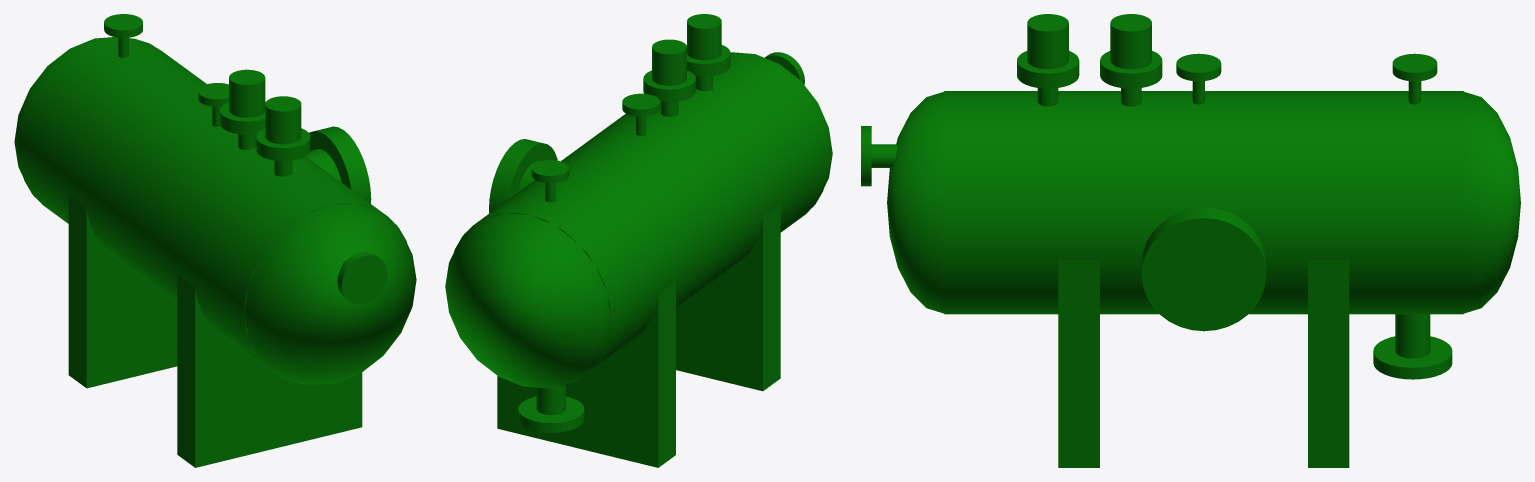
File: Image-1711348149505-2280998540080_20-VD51.fbx
3 renders of one model, left to right at view 1: azimuth 30°, elevation 25°; view 2: azimuth 150°, elevation 25°; view 3: azimuth 270°, elevation 25°, orthographic. The views are drawn at different scales.
Visible parts, largest first — view 1: CYLINDER 1 of SUBEQUIPMENT /20-VD51/PRIM, DISH 1 of SUBEQUIPMENT /20-VD51/PRIM, BOX 1 of SUBEQUIPMENT /20-VD51/PRIM, BOX 2 of SUBEQUIPMENT /20-VD51/PRIM, /20-VD51/N1, CYLINDER 9 of SUBEQUIPMENT /20-VD51/PRIM, CYLINDER 10 of SUBEQUIPMENT /20-VD51/PRIM, CYLINDER 3 of SUBEQUIPMENT /20-VD51/PRIM, CYLINDER 7 of SUBEQUIPMENT /20-VD51/PRIM, /20-VD51/N3, CYLINDER 8 of SUBEQUIPMENT /20-VD51/PRIM, DISH 2 of SUBEQUIPMENT /20-VD51/PRIM (+3 smaller); view 2: CYLINDER 1 of SUBEQUIPMENT /20-VD51/PRIM, DISH 2 of SUBEQUIPMENT /20-VD51/PRIM, BOX 2 of SUBEQUIPMENT /20-VD51/PRIM, BOX 1 of SUBEQUIPMENT /20-VD51/PRIM, /20-VD51/N2, CYLINDER 10 of SUBEQUIPMENT /20-VD51/PRIM, CYLINDER 9 of SUBEQUIPMENT /20-VD51/PRIM, CYLINDER 3 of SUBEQUIPMENT /20-VD51/PRIM, CYLINDER 8 of SUBEQUIPMENT /20-VD51/PRIM, /20-VD51/N3, /20-VD51/N8, CYLINDER 7 of SUBEQUIPMENT /20-VD51/PRIM (+3 smaller); view 3: CYLINDER 1 of SUBEQUIPMENT /20-VD51/PRIM, CYLINDER 4 of SUBEQUIPMENT /20-VD51/PRIM, DISH 2 of SUBEQUIPMENT /20-VD51/PRIM, DISH 1 of SUBEQUIPMENT /20-VD51/PRIM, BOX 1 of SUBEQUIPMENT /20-VD51/PRIM, BOX 2 of SUBEQUIPMENT /20-VD51/PRIM, /20-VD51/N2, CYLINDER 9 of SUBEQUIPMENT /20-VD51/PRIM, CYLINDER 10 of SUBEQUIPMENT /20-VD51/PRIM, CYLINDER 8 of SUBEQUIPMENT /20-VD51/PRIM, CYLINDER 7 of SUBEQUIPMENT /20-VD51/PRIM, /20-VD51/N3 (+3 smaller).
Part boxes in pixels (<box>): CYLINDER 1 of SUBEQUIPMENT /20-VD51/PRIM: <box>18,37,407,383</box>; DISH 1 of SUBEQUIPMENT /20-VD51/PRIM: <box>244,203,416,385</box>; BOX 1 of SUBEQUIPMENT /20-VD51/PRIM: <box>177,274,362,467</box>; BOX 2 of SUBEQUIPMENT /20-VD51/PRIM: <box>68,194,177,388</box>; /20-VD51/N1: <box>337,251,387,304</box>; CYLINDER 9 of SUBEQUIPMENT /20-VD51/PRIM: <box>265,96,301,144</box>; CYLINDER 10 of SUBEQUIPMENT /20-VD51/PRIM: <box>229,69,265,117</box>; CYLINDER 3 of SUBEQUIPMENT /20-VD51/PRIM: <box>309,128,361,196</box>; CYLINDER 7 of SUBEQUIPMENT /20-VD51/PRIM: <box>256,128,310,161</box>; /20-VD51/N3: <box>104,14,142,57</box>; CYLINDER 8 of SUBEQUIPMENT /20-VD51/PRIM: <box>220,102,265,134</box>; DISH 2 of SUBEQUIPMENT /20-VD51/PRIM: <box>14,37,151,196</box>; CYLINDER 1 of SUBEQUIPMENT /20-VD51/PRIM: <box>454,53,829,386</box>; DISH 2 of SUBEQUIPMENT /20-VD51/PRIM: <box>445,213,611,388</box>; BOX 2 of SUBEQUIPMENT /20-VD51/PRIM: <box>497,281,675,467</box>; BOX 1 of SUBEQUIPMENT /20-VD51/PRIM: <box>676,204,780,391</box>; /20-VD51/N2: <box>518,385,584,432</box>; CYLINDER 10 of SUBEQUIPMENT /20-VD51/PRIM: <box>652,39,686,85</box>; CYLINDER 9 of SUBEQUIPMENT /20-VD51/PRIM: <box>687,14,721,60</box>; CYLINDER 3 of SUBEQUIPMENT /20-VD51/PRIM: <box>498,141,557,206</box>; CYLINDER 8 of SUBEQUIPMENT /20-VD51/PRIM: <box>643,70,695,102</box>; /20-VD51/N3: <box>531,160,569,202</box>; /20-VD51/N8: <box>622,93,659,135</box>; CYLINDER 7 of SUBEQUIPMENT /20-VD51/PRIM: <box>686,45,730,76</box>; CYLINDER 1 of SUBEQUIPMENT /20-VD51/PRIM: <box>944,91,1463,314</box>; CYLINDER 4 of SUBEQUIPMENT /20-VD51/PRIM: <box>1141,213,1266,331</box>; DISH 2 of SUBEQUIPMENT /20-VD51/PRIM: <box>1463,92,1520,313</box>; DISH 1 of SUBEQUIPMENT /20-VD51/PRIM: <box>887,92,944,313</box>; BOX 1 of SUBEQUIPMENT /20-VD51/PRIM: <box>1058,260,1099,467</box>; BOX 2 of SUBEQUIPMENT /20-VD51/PRIM: <box>1308,260,1349,467</box>; /20-VD51/N2: <box>1373,314,1452,379</box>; CYLINDER 9 of SUBEQUIPMENT /20-VD51/PRIM: <box>1027,14,1068,69</box>; CYLINDER 10 of SUBEQUIPMENT /20-VD51/PRIM: <box>1110,14,1151,69</box>; CYLINDER 8 of SUBEQUIPMENT /20-VD51/PRIM: <box>1100,51,1162,88</box>; CYLINDER 7 of SUBEQUIPMENT /20-VD51/PRIM: <box>1017,51,1079,88</box>; /20-VD51/N3: <box>1392,53,1437,104</box>.
Bounding box in the file's own units: 1.36 × 3.18 × 2.11.
